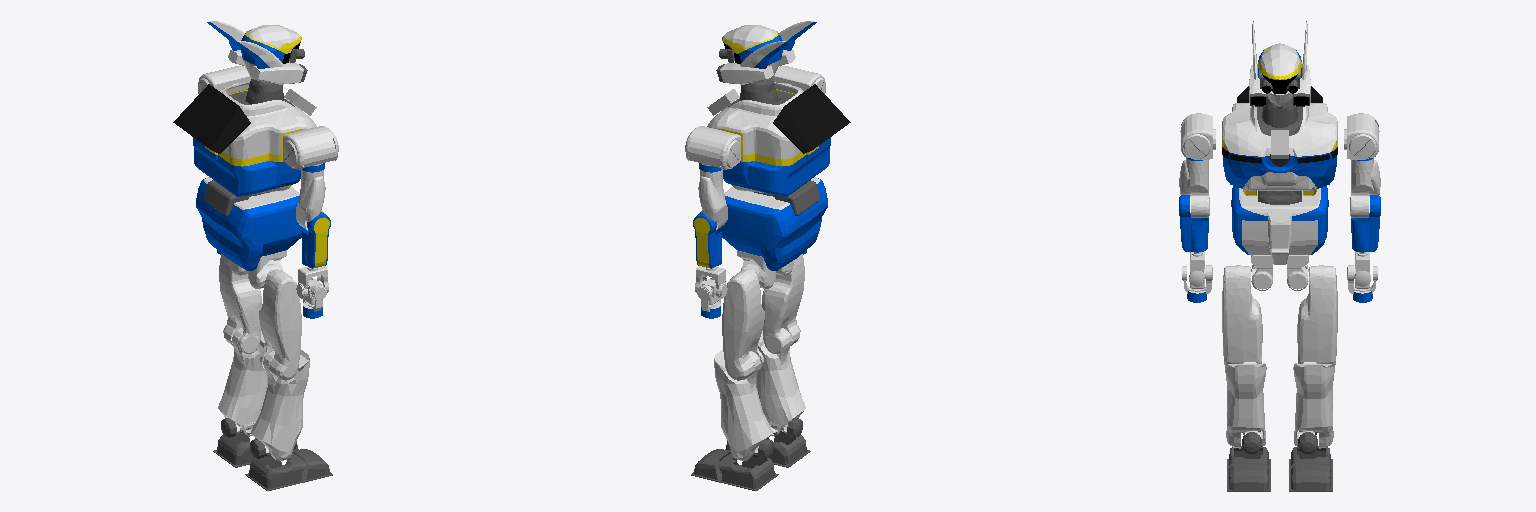
--- Render facts (derived) ---
3 views of the same robot in one strip: view 1: azimuth 30°, elevation 25°; view 2: azimuth 150°, elevation 25°; view 3: azimuth 270°, elevation 25° (orthographic).
Robot: HRP2JSKNTS — 35 links, 34 joints (34 revolute); root link BODY; default pose: all joints at 0.
Links seen in each view (by area): view 1: CHEST_LINK1, BODY, HEAD_LINK1, RLEG_LINK2, RLEG_LINK3, LLEG_LINK3, LLEG_LINK2, RLEG_LINK5, RARM_LINK2, RARM_LINK3, RARM_LINK0, LLEG_LINK5 (+6 smaller); view 2: CHEST_LINK1, BODY, HEAD_LINK1, LLEG_LINK2, LLEG_LINK3, RLEG_LINK3, RLEG_LINK2, LLEG_LINK5, LARM_LINK2, LARM_LINK3, LARM_LINK0, RLEG_LINK5 (+6 smaller); view 3: CHEST_LINK1, BODY, LLEG_LINK2, RLEG_LINK2, HEAD_LINK1, LLEG_LINK3, RLEG_LINK3, LARM_LINK2, RARM_LINK2, LARM_LINK0, RARM_LINK0, LLEG_LINK6 (+9 smaller).
Link boxes in pixels (left/top/right/bottom): CHEST_LINK1: left=173, top=82, right=316, bottom=196; BODY: left=196, top=177, right=302, bottom=270; HEAD_LINK1: left=207, top=21, right=307, bottom=84; RLEG_LINK2: left=259, top=269, right=301, bottom=380; RLEG_LINK3: left=251, top=350, right=309, bottom=460; LLEG_LINK3: left=218, top=328, right=267, bottom=435; LLEG_LINK2: left=219, top=254, right=261, bottom=353; RLEG_LINK5: left=249, top=439, right=306, bottom=488; RARM_LINK2: left=296, top=163, right=325, bottom=230; RARM_LINK3: left=302, top=212, right=330, bottom=268; RARM_LINK0: left=283, top=126, right=338, bottom=169; LLEG_LINK5: left=217, top=418, right=269, bottom=464; CHEST_LINK1: left=707, top=82, right=850, bottom=196; BODY: left=721, top=177, right=827, bottom=270; HEAD_LINK1: left=716, top=21, right=816, bottom=84; LLEG_LINK2: left=722, top=269, right=764, bottom=380; LLEG_LINK3: left=714, top=350, right=772, bottom=460; RLEG_LINK3: left=756, top=328, right=805, bottom=435; RLEG_LINK2: left=762, top=254, right=804, bottom=353; LLEG_LINK5: left=717, top=439, right=774, bottom=488; LARM_LINK2: left=698, top=163, right=727, bottom=230; LARM_LINK3: left=693, top=212, right=721, bottom=268; LARM_LINK0: left=685, top=126, right=740, bottom=169; RLEG_LINK5: left=754, top=418, right=806, bottom=464; CHEST_LINK1: left=1222, top=86, right=1337, bottom=195; BODY: left=1231, top=186, right=1328, bottom=264; LLEG_LINK2: left=1297, top=265, right=1337, bottom=365; RLEG_LINK2: left=1222, top=265, right=1262, bottom=365; HEAD_LINK1: left=1249, top=21, right=1310, bottom=106; LLEG_LINK3: left=1293, top=362, right=1334, bottom=448; RLEG_LINK3: left=1225, top=362, right=1266, bottom=448; LARM_LINK2: left=1350, top=158, right=1380, bottom=217; RARM_LINK2: left=1179, top=158, right=1209, bottom=217; LARM_LINK0: left=1344, top=113, right=1379, bottom=159; RARM_LINK0: left=1180, top=113, right=1215, bottom=159; LLEG_LINK6: left=1289, top=459, right=1332, bottom=491.
Size in the robot's own frame: 0.4557 by 0.6801 by 1.61 metres.
35 mesh visuals loaded from 35 distinct referenced files (35 Collada DAE).

robot.urdf — HRP2JSKNTS:
<?xml version="1.0"?>
<robot name="HRP2JSKNTS"
       xmlns:xi="http://www.w3.org/2001/XInclude"
       >
  <link name="BODY">
    <visual>
      <origin xyz="0 0 0.718" rpy="0 -0 0"/>
      <geometry>
        <mesh filename="package://hrpsys_ros_bridge_tutorials/models/HRP2JSKNTS_meshes/BODY_mesh.dae" scale="1 1 1" />
      </geometry>
    </visual>
    <collision>
      <origin xyz="0 0 0.718" rpy="0 -0 0"/>
      <geometry>
        <mesh filename="package://hrpsys_ros_bridge_tutorials/models/HRP2JSKNTS_meshes/BODY_mesh.dae" scale="1 1 1" />
      </geometry>
    </collision>
    <inertial>
      <mass value="13.5495" />
      <origin xyz="-0.036953 1.33107e-07 0.195848" rpy="0 -0 0"/>
      <inertia ixx="0.161026" ixy="-2.6504e-07" ixz="0.000706962" iyy="0.09528" iyz="-1.95085e-07" izz="0.191914"/>
    </inertial>
  </link>
  <gazebo reference="BODY">
    <mu1>0.9</mu1>
    <mu2>0.9</mu2>
  </gazebo>
  <link name="CHEST_LINK0">
    <visual>
      <origin xyz="0.032 0 0.3507" rpy="0 -0 0"/>
      <geometry>
        <mesh filename="package://hrpsys_ros_bridge_tutorials/models/HRP2JSKNTS_meshes/CHEST_LINK0_mesh.dae" scale="1 1 1" />
      </geometry>
    </visual>
    <collision>
      <origin xyz="0.032 0 0.3507" rpy="0 -0 0"/>
      <geometry>
        <mesh filename="package://hrpsys_ros_bridge_tutorials/models/HRP2JSKNTS_meshes/CHEST_LINK0_mesh.dae" scale="1 1 1" />
      </geometry>
    </collision>
    <inertial>
      <mass value="0.786369" />
      <origin xyz="-0.0158016 0.00529544 -0.0251963" rpy="0 -0 0"/>
      <inertia ixx="0.00181617" ixy="-7.322e-05" ixz="-0.00027731" iyy="0.00185079" iyz="-0.00010749" izz="0.00233207"/>
    </inertial>
  </link>
  <gazebo reference="CHEST_LINK0">
    <mu1>0.9</mu1>
    <mu2>0.9</mu2>
  </gazebo>
  <link name="CHEST_LINK1">
    <visual>
      <origin xyz="0 0 0" rpy="0 -0 0"/>
      <geometry>
        <mesh filename="package://hrpsys_ros_bridge_tutorials/models/HRP2JSKNTS_meshes/CHEST_LINK1_mesh.dae" scale="1 1 1" />
      </geometry>
    </visual>
    <collision>
      <origin xyz="0 0 0" rpy="0 -0 0"/>
      <geometry>
        <mesh filename="package://hrpsys_ros_bridge_tutorials/models/HRP2JSKNTS_meshes/CHEST_LINK1_mesh.dae" scale="1 1 1" />
      </geometry>
    </collision>
    <inertial>
      <mass value="12.4296" />
      <origin xyz="-0.038751 0.006642 0.129476" rpy="0 -0 0"/>
      <inertia ixx="0.160476" ixy="-0.00135932" ixz="-0.00414493" iyy="0.136846" iyz="0.00388036" izz="0.181669"/>
    </inertial>
  </link>
  <gazebo reference="CHEST_LINK1">
    <mu1>0.9</mu1>
    <mu2>0.9</mu2>
  </gazebo>
  <link name="HEAD_LINK0">
    <visual>
      <origin xyz="-0.007 0 0.2973" rpy="0 -0 0"/>
      <geometry>
        <mesh filename="package://hrpsys_ros_bridge_tutorials/models/HRP2JSKNTS_meshes/HEAD_LINK0_mesh.dae" scale="1 1 1" />
      </geometry>
    </visual>
    <collision>
      <origin xyz="-0.007 0 0.2973" rpy="0 -0 0"/>
      <geometry>
        <mesh filename="package://hrpsys_ros_bridge_tutorials/models/HRP2JSKNTS_meshes/HEAD_LINK0_mesh.dae" scale="1 1 1" />
      </geometry>
    </collision>
    <inertial>
      <mass value="0.362181" />
      <origin xyz="-0.00090801 0.00274824 -0.00825901" rpy="0 -0 0"/>
      <inertia ixx="0.00038285" ixy="-5.2e-07" ixz="2.24e-06" iyy="0.00021609" iyz="-7.26e-06" izz="0.0003473"/>
    </inertial>
  </link>
  <gazebo reference="HEAD_LINK0">
    <mu1>0.9</mu1>
    <mu2>0.9</mu2>
  </gazebo>
  <link name="HEAD_LINK1">
    <visual>
      <origin xyz="0 0 0" rpy="0 -0 0"/>
      <geometry>
        <mesh filename="package://hrpsys_ros_bridge_tutorials/models/HRP2JSKNTS_meshes/HEAD_LINK1_mesh.dae" scale="1 1 1" />
      </geometry>
    </visual>
    <collision>
      <origin xyz="0 0 0" rpy="0 -0 0"/>
      <geometry>
        <mesh filename="package://hrpsys_ros_bridge_tutorials/models/HRP2JSKNTS_meshes/HEAD_LINK1_mesh.dae" scale="1 1 1" />
      </geometry>
    </collision>
    <inertial>
      <mass value="3.02154" />
      <origin xyz="0.002748 -0.000165 0.096609" rpy="0 -0 0"/>
      <inertia ixx="0.00393357" ixy="4.68e-06" ixz="7.928e-05" iyy="0.00413822" iyz="-9.051e-05" izz="0.00524469"/>
    </inertial>
  </link>
  <gazebo reference="HEAD_LINK1">
    <mu1>0.9</mu1>
    <mu2>0.9</mu2>
  </gazebo>
  <link name="LARM_LINK0">
    <visual>
      <origin xyz="0.008 0.28 0.181" rpy="0 -0 0"/>
      <geometry>
        <mesh filename="package://hrpsys_ros_bridge_tutorials/models/HRP2JSKNTS_meshes/LARM_LINK0_mesh.dae" scale="1 1 1" />
      </geometry>
    </visual>
    <collision>
      <origin xyz="0.008 0.28 0.181" rpy="0 -0 0"/>
      <geometry>
        <mesh filename="package://hrpsys_ros_bridge_tutorials/models/HRP2JSKNTS_meshes/LARM_LINK0_mesh.dae" scale="1 1 1" />
      </geometry>
    </collision>
    <inertial>
      <mass value="0.810076" />
      <origin xyz="-0.00989448 -0.0464526 -0.00015316" rpy="0 -0 0"/>
      <inertia ixx="0.00221115" ixy="0.00030424" ixz="1.47e-06" iyy="0.00184189" iyz="-4.667e-05" izz="0.00344772"/>
    </inertial>
  </link>
  <gazebo reference="LARM_LINK0">
    <mu1>0.9</mu1>
    <mu2>0.9</mu2>
  </gazebo>
  <link name="LARM_LINK1">
    <visual>
      <origin xyz="0 0 0" rpy="0 -0 0"/>
      <geometry>
        <mesh filename="package://hrpsys_ros_bridge_tutorials/models/HRP2JSKNTS_meshes/LARM_LINK1_mesh.dae" scale="1 1 1" />
      </geometry>
    </visual>
    <collision>
      <origin xyz="0 0 0" rpy="0 -0 0"/>
      <geometry>
        <mesh filename="package://hrpsys_ros_bridge_tutorials/models/HRP2JSKNTS_meshes/LARM_LINK1_mesh.dae" scale="1 1 1" />
      </geometry>
    </collision>
    <inertial>
      <mass value="1.03448" />
      <origin xyz="-0.0105646 0.0120429 -0.00948156" rpy="0 -0 0"/>
      <inertia ixx="0.00122098" ixy="-0.00028119" ixz="9.407e-05" iyy="0.00172216" iyz="-0.00012041" izz="0.00161319"/>
    </inertial>
  </link>
  <gazebo reference="LARM_LINK1">
    <mu1>0.9</mu1>
    <mu2>0.9</mu2>
  </gazebo>
  <link name="LARM_LINK2">
    <visual>
      <origin xyz="0 0 0" rpy="0 -0 0"/>
      <geometry>
        <mesh filename="package://hrpsys_ros_bridge_tutorials/models/HRP2JSKNTS_meshes/LARM_LINK2_mesh.dae" scale="1 1 1" />
      </geometry>
    </visual>
    <collision>
      <origin xyz="0 0 0" rpy="0 -0 0"/>
      <geometry>
        <mesh filename="package://hrpsys_ros_bridge_tutorials/models/HRP2JSKNTS_meshes/LARM_LINK2_mesh.dae" scale="1 1 1" />
      </geometry>
    </collision>
    <inertial>
      <mass value="1.59929" />
      <origin xyz="-0.00543072 0.00479797 -0.166872" rpy="0 -0 0"/>
      <inertia ixx="0.00973049" ixy="5.13304e-05" ixz="-0.000199167" iyy="0.00970372" iyz="-0.000137469" izz="0.00135331"/>
    </inertial>
  </link>
  <gazebo reference="LARM_LINK2">
    <mu1>0.9</mu1>
    <mu2>0.9</mu2>
  </gazebo>
  <link name="LARM_LINK3">
    <visual>
      <origin xyz="0 0 -0.25" rpy="0 -0 0"/>
      <geometry>
        <mesh filename="package://hrpsys_ros_bridge_tutorials/models/HRP2JSKNTS_meshes/LARM_LINK3_mesh.dae" scale="1 1 1" />
      </geometry>
    </visual>
    <collision>
      <origin xyz="0 0 -0.25" rpy="0 -0 0"/>
      <geometry>
        <mesh filename="package://hrpsys_ros_bridge_tutorials/models/HRP2JSKNTS_meshes/LARM_LINK3_mesh.dae" scale="1 1 1" />
      </geometry>
    </collision>
    <inertial>
      <mass value="0.77725" />
      <origin xyz="-9.27e-06 0.0161684 -0.0627015" rpy="0 -0 0"/>
      <inertia ixx="0.00232668" ixy="-7e-08" ixz="-3.1e-07" iyy="0.00212476" iyz="-0.00015097" izz="0.00056363"/>
    </inertial>
  </link>
  <gazebo reference="LARM_LINK3">
    <mu1>0.9</mu1>
    <mu2>0.9</mu2>
  </gazebo>
  <link name="LARM_LINK4">
    <visual>
      <origin xyz="0 0 -0.25" rpy="0 -0 0"/>
      <geometry>
        <mesh filename="package://hrpsys_ros_bridge_tutorials/models/HRP2JSKNTS_meshes/LARM_LINK4_mesh.dae" scale="1 1 1" />
      </geometry>
    </visual>
    <collision>
      <origin xyz="0 0 -0.25" rpy="0 -0 0"/>
      <geometry>
        <mesh filename="package://hrpsys_ros_bridge_tutorials/models/HRP2JSKNTS_meshes/LARM_LINK4_mesh.dae" scale="1 1 1" />
      </geometry>
    </collision>
    <inertial>
      <mass value="0.328543" />
      <origin xyz="-0.00840122 -1.406e-05 0.0472199" rpy="0 -0 0"/>
      <inertia ixx="0.00084438" ixy="4e-08" ixz="-0.00013812" iyy="0.00105692" iyz="2.3e-07" izz="0.00034468"/>
    </inertial>
  </link>
  <gazebo reference="LARM_LINK4">
    <mu1>0.9</mu1>
    <mu2>0.9</mu2>
  </gazebo>
  <link name="LARM_LINK5">
    <visual>
      <origin xyz="0 0 0" rpy="0 -0 0"/>
      <geometry>
        <mesh filename="package://hrpsys_ros_bridge_tutorials/models/HRP2JSKNTS_meshes/LARM_LINK5_mesh.dae" scale="1 1 1" />
      </geometry>
    </visual>
    <collision>
      <origin xyz="0 0 0" rpy="0 -0 0"/>
      <geometry>
        <mesh filename="package://hrpsys_ros_bridge_tutorials/models/HRP2JSKNTS_meshes/LARM_LINK5_mesh.dae" scale="1 1 1" />
      </geometry>
    </collision>
    <inertial>
      <mass value="0.460767" />
      <origin xyz="0.00361678 0.00180569 -0.00656872" rpy="0 -0 0"/>
      <inertia ixx="0.00026432" ixy="3.17e-06" ixz="-1.177e-05" iyy="0.0002938" iyz="-1.08e-05" izz="0.0002986"/>
    </inertial>
  </link>
  <gazebo reference="LARM_LINK5">
    <mu1>0.9</mu1>
    <mu2>0.9</mu2>
  </gazebo>
  <link name="LARM_LINK6">
    <visual>
      <origin xyz="0 0 0" rpy="0 -0 0"/>
      <geometry>
        <mesh filename="package://hrpsys_ros_bridge_tutorials/models/HRP2JSKNTS_meshes/LARM_LINK6_mesh.dae" scale="1 1 1" />
      </geometry>
    </visual>
    <collision>
      <origin xyz="0 0 0" rpy="0 -0 0"/>
      <geometry>
        <mesh filename="package://hrpsys_ros_bridge_tutorials/models/HRP2JSKNTS_meshes/LARM_LINK6_mesh.dae" scale="1 1 1" />
      </geometry>
    </collision>
    <inertial>
      <mass value="1.33256" />
      <origin xyz="0.00067085 0.00738842 -0.085722" rpy="0 -0 0"/>
      <inertia ixx="0.00227076" ixy="6.3e-07" ixz="3.217e-05" iyy="0.00214173" iyz="-3.72e-06" izz="0.00067255"/>
    </inertial>
  </link>
  <gazebo reference="LARM_LINK6">
    <mu1>0.9</mu1>
    <mu2>0.9</mu2>
  </gazebo>
  <link name="LARM_LINK7">
    <visual>
      <origin xyz="0 -0.0169 -0.114" rpy="0 -0 0"/>
      <geometry>
        <mesh filename="package://hrpsys_ros_bridge_tutorials/models/HRP2JSKNTS_meshes/LARM_LINK7_mesh.dae" scale="1 1 1" />
      </geometry>
    </visual>
    <collision>
      <origin xyz="0 -0.0169 -0.114" rpy="0 -0 0"/>
      <geometry>
        <mesh filename="package://hrpsys_ros_bridge_tutorials/models/HRP2JSKNTS_meshes/LARM_LINK7_mesh.dae" scale="1 1 1" />
      </geometry>
    </collision>
    <inertial>
      <mass value="0" />
      <origin xyz="0 0 -1.38778e-17" rpy="0 -0 0"/>
      <inertia ixx="0" ixy="0" ixz="0" iyy="0" iyz="0" izz="0"/>
    </inertial>
  </link>
  <gazebo reference="LARM_LINK7">
    <mu1>0.9</mu1>
    <mu2>0.9</mu2>
  </gazebo>
  <link name="RARM_LINK0">
    <visual>
      <origin xyz="0.008 -0.28 0.181" rpy="0 -0 0"/>
      <geometry>
        <mesh filename="package://hrpsys_ros_bridge_tutorials/models/HRP2JSKNTS_meshes/RARM_LINK0_mesh.dae" scale="1 1 1" />
      </geometry>
    </visual>
    <collision>
      <origin xyz="0.008 -0.28 0.181" rpy="0 -0 0"/>
      <geometry>
        <mesh filename="package://hrpsys_ros_bridge_tutorials/models/HRP2JSKNTS_meshes/RARM_LINK0_mesh.dae" scale="1 1 1" />
      </geometry>
    </collision>
    <inertial>
      <mass value="0.810076" />
      <origin xyz="-0.00989448 0.0464526 -0.00015316" rpy="0 -0 0"/>
      <inertia ixx="0.00221115" ixy="-0.00030424" ixz="1.47e-06" iyy="0.00184189" iyz="4.667e-05" izz="0.00344772"/>
    </inertial>
  </link>
  <gazebo reference="RARM_LINK0">
    <mu1>0.9</mu1>
    <mu2>0.9</mu2>
  </gazebo>
  <link name="RARM_LINK1">
    <visual>
      <origin xyz="0 0 0" rpy="0 -0 0"/>
      <geometry>
        <mesh filename="package://hrpsys_ros_bridge_tutorials/models/HRP2JSKNTS_meshes/RARM_LINK1_mesh.dae" scale="1 1 1" />
      </geometry>
    </visual>
    <collision>
      <origin xyz="0 0 0" rpy="0 -0 0"/>
      <geometry>
        <mesh filename="package://hrpsys_ros_bridge_tutorials/models/HRP2JSKNTS_meshes/RARM_LINK1_mesh.dae" scale="1 1 1" />
      </geometry>
    </collision>
    <inertial>
      <mass value="1.03448" />
      <origin xyz="-0.0105646 -0.0120429 -0.00948156" rpy="0 -0 0"/>
      <inertia ixx="0.00122098" ixy="0.00028119" ixz="9.407e-05" iyy="0.00172216" iyz="0.00012041" izz="0.00161319"/>
    </inertial>
  </link>
  <gazebo reference="RARM_LINK1">
    <mu1>0.9</mu1>
    <mu2>0.9</mu2>
  </gazebo>
  <link name="RARM_LINK2">
    <visual>
      <origin xyz="0 0 0" rpy="0 -0 0"/>
      <geometry>
        <mesh filename="package://hrpsys_ros_bridge_tutorials/models/HRP2JSKNTS_meshes/RARM_LINK2_mesh.dae" scale="1 1 1" />
      </geometry>
    </visual>
    <collision>
      <origin xyz="0 0 0" rpy="0 -0 0"/>
      <geometry>
        <mesh filename="package://hrpsys_ros_bridge_tutorials/models/HRP2JSKNTS_meshes/RARM_LINK2_mesh.dae" scale="1 1 1" />
      </geometry>
    </collision>
    <inertial>
      <mass value="1.59929" />
      <origin xyz="-0.00543072 -0.00479797 -0.166872" rpy="0 -0 0"/>
      <inertia ixx="0.00973049" ixy="-5.13304e-05" ixz="-0.000199167" iyy="0.00970372" iyz="0.000137469" izz="0.00135331"/>
    </inertial>
  </link>
  <gazebo reference="RARM_LINK2">
    <mu1>0.9</mu1>
    <mu2>0.9</mu2>
  </gazebo>
  <link name="RARM_LINK3">
    <visual>
      <origin xyz="0 0 -0.25" rpy="0 -0 0"/>
      <geometry>
        <mesh filename="package://hrpsys_ros_bridge_tutorials/models/HRP2JSKNTS_meshes/RARM_LINK3_mesh.dae" scale="1 1 1" />
      </geometry>
    </visual>
    <collision>
      <origin xyz="0 0 -0.25" rpy="0 -0 0"/>
      <geometry>
        <mesh filename="package://hrpsys_ros_bridge_tutorials/models/HRP2JSKNTS_meshes/RARM_LINK3_mesh.dae" scale="1 1 1" />
      </geometry>
    </collision>
    <inertial>
      <mass value="0.77725" />
      <origin xyz="-9.27e-06 -0.0161684 -0.0627015" rpy="0 -0 0"/>
      <inertia ixx="0.00232668" ixy="7e-08" ixz="-3.1e-07" iyy="0.00212476" iyz="0.00015097" izz="0.00056363"/>
    </inertial>
  </link>
  <gazebo reference="RARM_LINK3">
    <mu1>0.9</mu1>
    <mu2>0.9</mu2>
  </gazebo>
  <link name="RARM_LINK4">
    <visual>
      <origin xyz="0 0 -0.25" rpy="0 -0 0"/>
      <geometry>
        <mesh filename="package://hrpsys_ros_bridge_tutorials/models/HRP2JSKNTS_meshes/RARM_LINK4_mesh.dae" scale="1 1 1" />
      </geometry>
    </visual>
    <collision>
      <origin xyz="0 0 -0.25" rpy="0 -0 0"/>
      <geometry>
        <mesh filename="package://hrpsys_ros_bridge_tutorials/models/HRP2JSKNTS_meshes/RARM_LINK4_mesh.dae" scale="1 1 1" />
      </geometry>
    </collision>
    <inertial>
      <mass value="0.328543" />
      <origin xyz="-0.00840122 1.406e-05 0.0472199" rpy="0 -0 0"/>
      <inertia ixx="0.00084438" ixy="-4e-08" ixz="-0.00013812" iyy="0.00105692" iyz="-2.3e-07" izz="0.00034468"/>
    </inertial>
  </link>
  <gazebo reference="RARM_LINK4">
    <mu1>0.9</mu1>
    <mu2>0.9</mu2>
  </gazebo>
  <link name="RARM_LINK5">
    <visual>
      <origin xyz="0 0 0" rpy="0 -0 0"/>
      <geometry>
        <mesh filename="package://hrpsys_ros_bridge_tutorials/models/HRP2JSKNTS_meshes/RARM_LINK5_mesh.dae" scale="1 1 1" />
      </geometry>
    </visual>
    <collision>
      <origin xyz="0 0 0" rpy="0 -0 0"/>
      <geometry>
        <mesh filename="package://hrpsys_ros_bridge_tutorials/models/HRP2JSKNTS_meshes/RARM_LINK5_mesh.dae" scale="1 1 1" />
      </geometry>
    </collision>
    <inertial>
      <mass value="0.460767" />
      <origin xyz="0.00361678 -0.00180569 -0.00656872" rpy="0 -0 0"/>
      <inertia ixx="0.00026432" ixy="-3.17e-06" ixz="-1.177e-05" iyy="0.0002938" iyz="1.08e-05" izz="0.0002986"/>
    </inertial>
  </link>
  <gazebo reference="RARM_LINK5">
    <mu1>0.9</mu1>
    <mu2>0.9</mu2>
  </gazebo>
  <link name="RARM_LINK6">
    <visual>
      <origin xyz="0 0 0" rpy="0 -0 0"/>
      <geometry>
        <mesh filename="package://hrpsys_ros_bridge_tutorials/models/HRP2JSKNTS_meshes/RARM_LINK6_mesh.dae" scale="1 1 1" />
      </geometry>
    </visual>
    <collision>
      <origin xyz="0 0 0" rpy="0 -0 0"/>
      <geometry>
        <mesh filename="package://hrpsys_ros_bridge_tutorials/models/HRP2JSKNTS_meshes/RARM_LINK6_mesh.dae" scale="1 1 1" />
      </geometry>
    </collision>
    <inertial>
      <mass value="1.33256" />
      <origin xyz="0.00067085 -0.00738842 -0.085722" rpy="0 -0 0"/>
      <inertia ixx="0.00227076" ixy="-6.3e-07" ixz="3.217e-05" iyy="0.00214173" iyz="3.72e-06" izz="0.00067255"/>
    </inertial>
  </link>
  <gazebo reference="RARM_LINK6">
    <mu1>0.9</mu1>
    <mu2>0.9</mu2>
  </gazebo>
  <link name="RARM_LINK7">
    <visual>
      <origin xyz="0 0.0169 -0.114" rpy="0 -0 0"/>
      <geometry>
        <mesh filename="package://hrpsys_ros_bridge_tutorials/models/HRP2JSKNTS_meshes/RARM_LINK7_mesh.dae" scale="1 1 1" />
      </geometry>
    </visual>
    <collision>
      <origin xyz="0 0.0169 -0.114" rpy="0 -0 0"/>
      <geometry>
        <mesh filename="package://hrpsys_ros_bridge_tutorials/models/HRP2JSKNTS_meshes/RARM_LINK7_mesh.dae" scale="1 1 1" />
      </geometry>
    </collision>
    <inertial>
      <mass value="0" />
      <origin xyz="0 0 -1.38778e-17" rpy="0 -0 0"/>
      <inertia ixx="0" ixy="0" ixz="0" iyy="0" iyz="0" izz="0"/>
    </inertial>
  </link>
  <gazebo reference="RARM_LINK7">
    <mu1>0.9</mu1>
    <mu2>0.9</mu2>
  </gazebo>
  <link name="LLEG_LINK0">
    <visual>
      <origin xyz="0 0.06 0" rpy="0 -0 0"/>
      <geometry>
        <mesh filename="package://hrpsys_ros_bridge_tutorials/models/HRP2JSKNTS_meshes/LLEG_LINK0_mesh.dae" scale="1 1 1" />
      </geometry>
    </visual>
    <collision>
      <origin xyz="0 0.06 0" rpy="0 -0 0"/>
      <geometry>
        <mesh filename="package://hrpsys_ros_bridge_tutorials/models/HRP2JSKNTS_meshes/LLEG_LINK0_mesh.dae" scale="1 1 1" />
      </geometry>
    </collision>
    <inertial>
      <mass value="1.16852" />
      <origin xyz="-0.0103793 -0.00484329 0.0649015" rpy="0 -0 0"/>
      <inertia ixx="0.00285998" ixy="1.43424e-05" ixz="-0.000555819" iyy="0.00352974" iyz="-8.84038e-06" izz="0.00145427"/>
    </inertial>
  </link>
  <gazebo reference="LLEG_LINK0">
    <mu1>0.9</mu1>
    <mu2>0.9</mu2>
  </gazebo>
  <link name="LLEG_LINK1">
    <visual>
      <origin xyz="0 0 0" rpy="0 -0 0"/>
      <geometry>
        <mesh filename="package://hrpsys_ros_bridge_tutorials/models/HRP2JSKNTS_meshes/LLEG_LINK1_mesh.dae" scale="1 1 1" />
      </geometry>
    </visual>
    <collision>
      <origin xyz="0 0 0" rpy="0 -0 0"/>
      <geometry>
        <mesh filename="package://hrpsys_ros_bridge_tutorials/models/HRP2JSKNTS_meshes/LLEG_LINK1_mesh.dae" scale="1 1 1" />
      </geometry>
    </collision>
    <inertial>
      <mass value="0.80553" />
      <origin xyz="-0.00039826 0.0261287 -0.00292156" rpy="0 -0 0"/>
      <inertia ixx="0.00126683" ixy="-1.211e-05" ixz="1.64e-06" iyy="0.00050656" iyz="-6.938e-05" izz="0.00132021"/>
    </inertial>
  </link>
  <gazebo reference="LLEG_LINK1">
    <mu1>0.9</mu1>
    <mu2>0.9</mu2>
  </gazebo>
  <link name="LLEG_LINK2">
    <visual>
      <origin xyz="0 0 0" rpy="0 -0 0"/>
      <geometry>
        <mesh filename="package://hrpsys_ros_bridge_tutorials/models/HRP2JSKNTS_meshes/LLEG_LINK2_mesh.dae" scale="1 1 1" />
      </geometry>
    </visual>
    <collision>
      <origin xyz="0 0 0" rpy="0 -0 0"/>
      <geometry>
        <mesh filename="package://hrpsys_ros_bridge_tutorials/models/HRP2JSKNTS_meshes/LLEG_LINK2_mesh.dae" scale="1 1 1" />
      </geometry>
    </collision>
    <inertial>
      <mass value="2.07632" />
      <origin xyz="0.00345946 0.0779422 -0.151684" rpy="0 -0 0"/>
      <inertia ixx="0.0261976" ixy="3.95406e-05" ixz="0.000573517" iyy="0.0249235" iyz="-0.000670077" izz="0.00376439"/>
    </inertial>
  </link>
  <gazebo reference="LLEG_LINK2">
    <mu1>0.9</mu1>
    <mu2>0.9</mu2>
  </gazebo>
  <link name="LLEG_LINK3">
    <visual>
      <origin xyz="0 0 -0.3" rpy="0 -0 0"/>
      <geometry>
        <mesh filename="package://hrpsys_ros_bridge_tutorials/models/HRP2JSKNTS_meshes/LLEG_LINK3_mesh.dae" scale="1 1 1" />
      </geometry>
    </visual>
    <collision>
      <origin xyz="0 0 -0.3" rpy="0 -0 0"/>
      <geometry>
        <mesh filename="package://hrpsys_ros_bridge_tutorials/models/HRP2JSKNTS_meshes/LLEG_LINK3_mesh.dae" scale="1 1 1" />
      </geometry>
    </collision>
    <inertial>
      <mass value="1.74762" />
      <origin xyz="0.0179878 0.0579164 -0.13839" rpy="0 -0 0"/>
      <inertia ixx="0.0223269" ixy="9.39152e-05" ixz="-0.00224766" iyy="0.022506" iyz="0.000745178" izz="0.0045544"/>
    </inertial>
  </link>
  <gazebo reference="LLEG_LINK3">
    <mu1>0.9</mu1>
    <mu2>0.9</mu2>
  </gazebo>
  <link name="LLEG_LINK4">
    <visual>
      <origin xyz="0 0.035 -0.3" rpy="0 -0 0"/>
      <geometry>
        <mesh filename="package://hrpsys_ros_bridge_tutorials/models/HRP2JSKNTS_meshes/LLEG_LINK4_mesh.dae" scale="1 1 1" />
      </geometry>
    </visual>
    <collision>
      <origin xyz="0 0.035 -0.3" rpy="0 -0 0"/>
      <geometry>
        <mesh filename="package://hrpsys_ros_bridge_tutorials/models/HRP2JSKNTS_meshes/LLEG_LINK4_mesh.dae" scale="1 1 1" />
      </geometry>
    </collision>
    <inertial>
      <mass value="0.65375" />
      <origin xyz="0.00827083 0.00133301 -0.002418" rpy="0 -0 0"/>
      <inertia ixx="0.00027773" ixy="5.26e-06" ixz="1.354e-05" iyy="0.00078966" iyz="3.59e-06" izz="0.00086039"/>
    </inertial>
  </link>
  <gazebo reference="LLEG_LINK4">
    <mu1>0.9</mu1>
    <mu2>0.9</mu2>
  </gazebo>
  <link name="LLEG_LINK5">
    <visual>
      <origin xyz="0 0 0" rpy="0 -0 0"/>
      <geometry>
        <mesh filename="package://hrpsys_ros_bridge_tutorials/models/HRP2JSKNTS_meshes/LLEG_LINK5_mesh.dae" scale="1 1 1" />
      </geometry>
    </visual>
    <collision>
      <origin xyz="0 0 0" rpy="0 -0 0"/>
      <geometry>
        <mesh filename="package://hrpsys_ros_bridge_tutorials/models/HRP2JSKNTS_meshes/LLEG_LINK5_mesh.dae" scale="1 1 1" />
      </geometry>
    </collision>
    <inertial>
      <mass value="1.80877" />
      <origin xyz="-0.000602 0.004248 -0.066744" rpy="0 -0 0"/>
      <inertia ixx="0.00400076" ixy="-9.983e-05" ixz="0.00079295" iyy="0.00687611" iyz="0.00018541" izz="0.00711516"/>
    </inertial>
  </link>
  <gazebo reference="LLEG_LINK5">
    <mu1>0.9</mu1>
    <mu2>0.9</mu2>
  </gazebo>
  <link name="LLEG_LINK6">
    <visual>
      <origin xyz="0.115 0 -0.084" rpy="0 -0 0"/>
      <geometry>
        <mesh filename="package://hrpsys_ros_bridge_tutorials/models/HRP2JSKNTS_meshes/LLEG_LINK6_mesh.dae" scale="1 1 1" />
      </geometry>
    </visual>
    <collision>
      <origin xyz="0.115 0 -0.084" rpy="0 -0 0"/>
      <geometry>
        <mesh filename="package://hrpsys_ros_bridge_tutorials/models/HRP2JSKNTS_meshes/LLEG_LINK6_mesh.dae" scale="1 1 1" />
      </geometry>
    </collision>
    <inertial>
      <mass value="0.819152" />
      <origin xyz="-0.011449 0.004827 -0.019364" rpy="0 -0 0"/>
      <inertia ixx="0.00076266" ixy="2.741e-05" ixz="2.69e-06" iyy="0.00035733" iyz="1.182e-05" izz="0.00095164"/>
    </inertial>
  </link>
  <gazebo reference="LLEG_LINK6">
    <mu1>0.9</mu1>
    <mu2>0.9</mu2>
  </gazebo>
  <link name="RLEG_LINK0">
    <visual>
      <origin xyz="0 -0.06 0" rpy="0 -0 0"/>
      <geometry>
        <mesh filename="package://hrpsys_ros_bridge_tutorials/models/HRP2JSKNTS_meshes/RLEG_LINK0_mesh.dae" scale="1 1 1" />
      </geometry>
    </visual>
    <collision>
      <origin xyz="0 -0.06 0" rpy="0 -0 0"/>
      <geometry>
        <mesh filename="package://hrpsys_ros_bridge_tutorials/models/HRP2JSKNTS_meshes/RLEG_LINK0_mesh.dae" scale="1 1 1" />
      </geometry>
    </collision>
    <inertial>
      <mass value="1.16852" />
      <origin xyz="-0.0103793 0.00484329 0.0649015" rpy="0 -0 0"/>
      <inertia ixx="0.00285998" ixy="-1.43424e-05" ixz="-0.000555819" iyy="0.00352974" iyz="8.84038e-06" izz="0.00145427"/>
    </inertial>
  </link>
  <gazebo reference="RLEG_LINK0">
    <mu1>0.9</mu1>
    <mu2>0.9</mu2>
  </gazebo>
  <link name="RLEG_LINK1">
    <visual>
      <origin xyz="0 0 0" rpy="0 -0 0"/>
      <geometry>
        <mesh filename="package://hrpsys_ros_bridge_tutorials/models/HRP2JSKNTS_meshes/RLEG_LINK1_mesh.dae" scale="1 1 1" />
      </geometry>
    </visual>
    <collision>
      <origin xyz="0 0 0" rpy="0 -0 0"/>
      <geometry>
        <mesh filename="package://hrpsys_ros_bridge_tutorials/models/HRP2JSKNTS_meshes/RLEG_LINK1_mesh.dae" scale="1 1 1" />
      </geometry>
    </collision>
    <inertial>
      <mass value="0.80553" />
      <origin xyz="-0.00039826 -0.0261287 -0.00292156" rpy="0 -0 0"/>
      <inertia ixx="0.00126683" ixy="1.211e-05" ixz="1.64e-06" iyy="0.00050656" iyz="6.938e-05" izz="0.00132021"/>
    </inertial>
  </link>
  <gazebo reference="RLEG_LINK1">
    <mu1>0.9</mu1>
    <mu2>0.9</mu2>
  </gazebo>
  <link name="RLEG_LINK2">
    <visual>
      <origin xyz="0 0 0" rpy="0 -0 0"/>
      <geometry>
        <mesh filename="package://hrpsys_ros_bridge_tutorials/models/HRP2JSKNTS_meshes/RLEG_LINK2_mesh.dae" scale="1 1 1" />
      </geometry>
    </visual>
    <collision>
      <origin xyz="0 0 0" rpy="0 -0 0"/>
      <geometry>
        <mesh filename="package://hrpsys_ros_bridge_tutorials/models/HRP2JSKNTS_meshes/RLEG_LINK2_mesh.dae" scale="1 1 1" />
      </geometry>
    </collision>
    <inertial>
      <mass value="2.07632" />
      <origin xyz="0.00345946 -0.0779422 -0.151684" rpy="0 -0 0"/>
      <inertia ixx="0.0261976" ixy="-3.95406e-05" ixz="0.000573517" iyy="0.0249235" iyz="0.000670077" izz="0.00376439"/>
    </inertial>
  </link>
  <gazebo reference="RLEG_LINK2">
    <mu1>0.9</mu1>
    <mu2>0.9</mu2>
  </gazebo>
  <link name="RLEG_LINK3">
    <visual>
      <origin xyz="0 0 -0.3" rpy="0 -0 0"/>
      <geometry>
        <mesh filename="package://hrpsys_ros_bridge_tutorials/models/HRP2JSKNTS_meshes/RLEG_LINK3_mesh.dae" scale="1 1 1" />
      </geometry>
    </visual>
    <collision>
      <origin xyz="0 0 -0.3" rpy="0 -0 0"/>
      <geometry>
        <mesh filename="package://hrpsys_ros_bridge_tutorials/models/HRP2JSKNTS_meshes/RLEG_LINK3_mesh.dae" scale="1 1 1" />
      </geometry>
    </collision>
    <inertial>
      <mass value="1.74762" />
      <origin xyz="0.0179878 -0.0579164 -0.13839" rpy="0 -0 0"/>
      <inertia ixx="0.0223269" ixy="-9.39152e-05" ixz="-0.00224766" iyy="0.022506" iyz="-0.000745178" izz="0.0045544"/>
    </inertial>
  </link>
  <gazebo reference="RLEG_LINK3">
    <mu1>0.9</mu1>
    <mu2>0.9</mu2>
  </gazebo>
  <link name="RLEG_LINK4">
    <visual>
      <origin xyz="0 -0.035 -0.3" rpy="0 -0 0"/>
      <geometry>
        <mesh filename="package://hrpsys_ros_bridge_tutorials/models/HRP2JSKNTS_meshes/RLEG_LINK4_mesh.dae" scale="1 1 1" />
      </geometry>
    </visual>
    <collision>
      <origin xyz="0 -0.035 -0.3" rpy="0 -0 0"/>
      <geometry>
        <mesh filename="package://hrpsys_ros_bridge_tutorials/models/HRP2JSKNTS_meshes/RLEG_LINK4_mesh.dae" scale="1 1 1" />
      </geometry>
    </collision>
    <inertial>
      <mass value="0.65375" />
      <origin xyz="0.00827083 -0.00133301 -0.002418" rpy="0 -0 0"/>
      <inertia ixx="0.00027773" ixy="-5.26e-06" ixz="1.354e-05" iyy="0.00078966" iyz="-3.59e-06" izz="0.00086039"/>
    </inertial>
  </link>
  <gazebo reference="RLEG_LINK4">
    <mu1>0.9</mu1>
    <mu2>0.9</mu2>
  </gazebo>
  <link name="RLEG_LINK5">
    <visual>
      <origin xyz="0 0 0" rpy="0 -0 0"/>
      <geometry>
        <mesh filename="package://hrpsys_ros_bridge_tutorials/models/HRP2JSKNTS_meshes/RLEG_LINK5_mesh.dae" scale="1 1 1" />
      </geometry>
    </visual>
    <collision>
      <origin xyz="0 0 0" rpy="0 -0 0"/>
      <geometry>
        <mesh filename="package://hrpsys_ros_bridge_tutorials/models/HRP2JSKNTS_meshes/RLEG_LINK5_mesh.dae" scale="1 1 1" />
      </geometry>
    </collision>
    <inertial>
      <mass value="1.80877" />
      <origin xyz="-0.000602 -0.004248 -0.066744" rpy="0 -0 0"/>
      <inertia ixx="0.00400076" ixy="9.983e-05" ixz="0.00079295" iyy="0.00687611" iyz="-0.00018541" izz="0.00711516"/>
    </inertial>
  </link>
  <gazebo reference="RLEG_LINK5">
    <mu1>0.9</mu1>
    <mu2>0.9</mu2>
  </gazebo>
  <link name="RLEG_LINK6">
    <visual>
      <origin xyz="0.115 0 -0.084" rpy="0 -0 0"/>
      <geometry>
        <mesh filename="package://hrpsys_ros_bridge_tutorials/models/HRP2JSKNTS_meshes/RLEG_LINK6_mesh.dae" scale="1 1 1" />
      </geometry>
    </visual>
    <collision>
      <origin xyz="0.115 0 -0.084" rpy="0 -0 0"/>
      <geometry>
        <mesh filename="package://hrpsys_ros_bridge_tutorials/models/HRP2JSKNTS_meshes/RLEG_LINK6_mesh.dae" scale="1 1 1" />
      </geometry>
    </collision>
    <inertial>
      <mass value="0.819152" />
      <origin xyz="-0.011449 -0.012396 -0.019364" rpy="0 -0 0"/>
      <inertia ixx="0.00076266" ixy="2.741e-05" ixz="2.69e-06" iyy="0.00035733" iyz="1.182e-05" izz="0.00095164"/>
    </inertial>
  </link>
  <gazebo reference="RLEG_LINK6">
    <mu1>0.9</mu1>
    <mu2>0.9</mu2>
  </gazebo>
  <joint name="CHEST_JOINT0" type="revolute">
    <parent link="BODY"/>
    <child  link="CHEST_LINK0"/>
    <origin xyz="0.032 0 0.3507" rpy="0 -0 0 "/>
    <axis   xyz="0 0 1"/>
    <limit lower="-0.785398" upper="0.785398" effort="151.8" velocity="4.40217" />
    <dynamics damping="0.2" friction="0" />
  </joint>
  <transmission type="pr2_mechanism_model/SimpleTransmission" name="CHEST_JOINT0_trans" >
    <actuator name="CHEST_JOINT0_motor" />
    <joint name="CHEST_JOINT0" />
    <mechanicalReduction>1</mechanicalReduction>
  </transmission>
  <gazebo reference="CHEST_JOINT0">
    <cfmDamping>0.4</cfmDamping>
  </gazebo>
  <joint name="CHEST_JOINT1" type="revolute">
    <parent link="CHEST_LINK0"/>
    <child  link="CHEST_LINK1"/>
    <origin xyz="0 0 0" rpy="0 -0 0 "/>
    <axis   xyz="0 1 0"/>
    <limit lower="-0.0872665" upper="1.0472" effort="278.9" velocity="2.3963" />
    <dynamics damping="0.2" friction="0" />
  </joint>
  <transmission type="pr2_mechanism_model/SimpleTransmission" name="CHEST_JOINT1_trans" >
    <actuator name="CHEST_JOINT1_motor" />
    <joint name="CHEST_JOINT1" />
    <mechanicalReduction>1</mechanicalReduction>
  </transmission>
  <gazebo reference="CHEST_JOINT1">
    <cfmDamping>0.4</cfmDamping>
  </gazebo>
  <joint name="HEAD_JOINT0" type="revolute">
    <parent link="CHEST_LINK1"/>
    <child  link="HEAD_LINK0"/>
    <origin xyz="-0.007 0 0.2973" rpy="0 -0 0 "/>
    <axis   xyz="0 0 1"/>
    <limit lower="-0.785398" upper="0.785398" effort="9.6" velocity="6.87679" />
    <dynamics damping="0.2" friction="0" />
  </joint>
  <transmission type="pr2_mechanism_model/SimpleTransmission" name="HEAD_JOINT0_trans" >
    <actuator name="HEAD_JOINT0_motor" />
    <joint name="HEAD_JOINT0" />
    <mechanicalReduction>1</mechanicalReduction>
  </transmission>
  <gazebo reference="HEAD_JOINT0">
    <cfmDamping>0.4</cfmDamping>
  </gazebo>
  <joint name="HEAD_JOINT1" type="revolute">
    <parent link="HEAD_LINK0"/>
    <child  link="HEAD_LINK1"/>
    <origin xyz="0 0 0" rpy="0 -0 0 "/>
    <axis   xyz="0 1 0"/>
    <limit lower="-0.523599" upper="0.759218" effort="9.6" velocity="6.87679" />
    <dynamics damping="0.2" friction="0" />
  </joint>
  <transmission type="pr2_mechanism_model/SimpleTransmission" name="HEAD_JOINT1_trans" >
    <actuator name="HEAD_JOINT1_motor" />
    <joint name="HEAD_JOINT1" />
    <mechanicalReduction>1</mechanicalReduction>
  </transmission>
  <gazebo reference="HEAD_JOINT1">
    <cfmDamping>0.4</cfmDamping>
  </gazebo>
  <joint name="LARM_JOINT0" type="revolute">
    <parent link="CHEST_LINK1"/>
    <child  link="LARM_LINK0"/>
    <origin xyz="0.008 0.28 0.181" rpy="0 -0 0 "/>
    <axis   xyz="0 1 0"/>
    <limit lower="-3.14159" upper="1.0472" effort="160.3" velocity="4.17044" />
    <dynamics damping="0.2" friction="0" />
  </joint>
  <transmission type="pr2_mechanism_model/SimpleTransmission" name="LARM_JOINT0_trans" >
    <actuator name="LARM_JOINT0_motor" />
    <joint name="LARM_JOINT0" />
    <mechanicalReduction>1</mechanicalReduction>
  </transmission>
  <gazebo reference="LARM_JOINT0">
    <cfmDamping>0.4</cfmDamping>
  </gazebo>
  <joint name="LARM_JOINT1" type="revolute">
    <parent link="LARM_LINK0"/>
    <child  link="LARM_LINK1"/>
    <origin xyz="0 0 0" rpy="0 -0 0 "/>
    <axis   xyz="1 0 0"/>
    <limit lower="-0.174533" upper="1.65806" effort="100.4" velocity="2.4192" />
    <dynamics damping="0.2" friction="0" />
  </joint>
  <transmission type="pr2_mechanism_model/SimpleTransmission" name="LARM_JOINT1_trans" >
    <actuator name="LARM_JOINT1_motor" />
    <joint name="LARM_JOINT1" />
    <mechanicalReduction>1</mechanicalReduction>
  </transmission>
  <gazebo reference="LARM_JOINT1">
    <cfmDamping>0.4</cfmDamping>
  </gazebo>
  <joint name="LARM_JOINT2" type="revolute">
    <parent link="LARM_LINK1"/>
    <child  link="LARM_LINK2"/>
    <origin xyz="0 0 0" rpy="0 -0 0 "/>
    <axis   xyz="0 0 1"/>
    <limit lower="-1.6057" upper="1.6057" effort="48.7" velocity="4.15699" />
    <dynamics damping="0.2" friction="0" />
  </joint>
  <transmission type="pr2_mechanism_model/SimpleTransmission" name="LARM_JOINT2_trans" >
    <actuator name="LARM_JOINT2_motor" />
    <joint name="LARM_JOINT2" />
    <mechanicalReduction>1</mechanicalReduction>
  </transmission>
  <gazebo reference="LARM_JOINT2">
    <cfmDamping>0.4</cfmDamping>
  </gazebo>
  <joint name="LARM_JOINT3" type="revolute">
    <parent link="LARM_LINK2"/>
    <child  link="LARM_LINK3"/>
    <origin xyz="0 0 -0.25" rpy="0 -0 0 "/>
    <axis   xyz="0 1 0"/>
    <limit lower="-2.3911" upper="0.0349066" effort="108.5" velocity="2.23776" />
    <dynamics damping="0.2" friction="0" />
  </joint>
  <transmission type="pr2_mechanism_model/SimpleTransmission" name="LARM_JOINT3_trans" >
    <actuator name="LARM_JOINT3_motor" />
    <joint name="LARM_JOINT3" />
    <mechanicalReduction>1</mechanicalReduction>
  </transmission>
  <gazebo reference="LARM_JOINT3">
    <cfmDamping>0.4</cfmDamping>
  </gazebo>
  <joint name="LARM_JOINT4" type="revolute">
    <parent link="LARM_LINK3"/>
    <child  link="LARM_LINK4"/>
    <origin xyz="0 0 -0.25" rpy="0 -0 0 "/>
    <axis   xyz="0 0 1"/>
    <limit lower="-1.85005" upper="1.85005" effort="13.9" velocity="4.72794" />
    <dynamics damping="0.2" friction="0" />
  </joint>
  <transmission type="pr2_mechanism_model/SimpleTransmission" name="LARM_JOINT4_trans" >
    <actuator name="LARM_JOINT4_motor" />
    <joint name="LARM_JOINT4" />
    <mechanicalReduction>1</mechanicalReduction>
  </transmission>
  <gazebo reference="LARM_JOINT4">
    <cfmDamping>0.4</cfmDamping>
  </gazebo>
  <joint name="LARM_JOINT5" type="revolute">
    <parent link="LARM_LINK4"/>
    <child  link="LARM_LINK5"/>
    <origin xyz="0 0 0" rpy="0 -0 0 "/>
    <axis   xyz="1 0 0"/>
    <limit lower="-1.6057" upper="1.6057" effort="18.74" velocity="6.63609" />
    <dynamics damping="0.2" friction="0" />
  </joint>
  <transmission type="pr2_mechanism_model/SimpleTransmission" name="LARM_JOINT5_trans" >
    <actuator name="LARM_JOINT5_motor" />
    <joint name="LARM_JOINT5" />
    <mechanicalReduction>1</mechanicalReduction>
  </transmission>
  <gazebo reference="LARM_JOINT5">
    <cfmDamping>0.4</cfmDamping>
  </gazebo>
  <joint name="LARM_JOINT6" type="revolute">
    <parent link="LARM_LINK5"/>
    <child  link="LARM_LINK6"/>
    <origin xyz="0 0 0" rpy="0 -0 0 "/>
    <axis   xyz="0 1 0"/>
    <limit lower="-1.6057" upper="1.6057" effort="16.02" velocity="2.77088" />
    <dynamics damping="0.2" friction="0" />
  </joint>
  <transmission type="pr2_mechanism_model/SimpleTransmission" name="LARM_JOINT6_trans" >
    <actuator name="LARM_JOINT6_motor" />
    <joint name="LARM_JOINT6" />
    <mechanicalReduction>1</mechanicalReduction>
  </transmission>
  <gazebo reference="LARM_JOINT6">
    <cfmDamping>0.4</cfmDamping>
  </gazebo>
  <joint name="LARM_JOINT7" type="revolute">
    <parent link="LARM_LINK6"/>
    <child  link="LARM_LINK7"/>
    <origin xyz="0 -0.0169 -0.114" rpy="0 -0 0 "/>
    <axis   xyz="1 0 0"/>
    <limit lower="-2.35619" upper="0.279253" effort="13.9" velocity="4.72794" />
    <dynamics damping="0.2" friction="0" />
  </joint>
  <transmission type="pr2_mechanism_model/SimpleTransmission" name="LARM_JOINT7_trans" >
    <actuator name="LARM_JOINT7_motor" />
    <joint name="LARM_JOINT7" />
    <mechanicalReduction>1</mechanicalReduction>
  </transmission>
  <gazebo reference="LARM_JOINT7">
    <cfmDamping>0.4</cfmDamping>
  </gazebo>
  <joint name="RARM_JOINT0" type="revolute">
    <parent link="CHEST_LINK1"/>
    <child  link="RARM_LINK0"/>
    <origin xyz="0.008 -0.28 0.181" rpy="0 -0 0 "/>
    <axis   xyz="0 1 0"/>
    <limit lower="-3.14159" upper="1.0472" effort="160.3" velocity="4.17044" />
    <dynamics damping="0.2" friction="0" />
  </joint>
  <transmission type="pr2_mechanism_model/SimpleTransmission" name="RARM_JOINT0_trans" >
    <actuator name="RARM_JOINT0_motor" />
    <joint name="RARM_JOINT0" />
    <mechanicalReduction>1</mechanicalReduction>
  </transmission>
  <gazebo reference="RARM_JOINT0">
    <cfmDamping>0.4</cfmDamping>
  </gazebo>
  <joint name="RARM_JOINT1" type="revolute">
    <parent link="RARM_LINK0"/>
    <child  link="RARM_LINK1"/>
    <origin xyz="0 0 0" rpy="0 -0 0 "/>
    <axis   xyz="1 0 0"/>
    <limit lower="-1.65806" upper="0.174533" effort="100.4" velocity="2.4192" />
    <dynamics damping="0.2" friction="0" />
  </joint>
  <transmission type="pr2_mechanism_model/SimpleTransmission" name="RARM_JOINT1_trans" >
    <actuator name="RARM_JOINT1_motor" />
    <joint name="RARM_JOINT1" />
    <mechanicalReduction>1</mechanicalReduction>
  </transmission>
  <gazebo reference="RARM_JOINT1">
    <cfmDamping>0.4</cfmDamping>
  </gazebo>
  <joint name="RARM_JOINT2" type="revolute">
    <parent link="RARM_LINK1"/>
    <child  link="RARM_LINK2"/>
    <origin xyz="0 0 0" rpy="0 -0 0 "/>
    <axis   xyz="0 0 1"/>
    <limit lower="-1.6057" upper="1.6057" effort="48.7" velocity="4.15699" />
    <dynamics damping="0.2" friction="0" />
  </joint>
  <transmission type="pr2_mechanism_model/SimpleTransmission" name="RARM_JOINT2_trans" >
    <actuator name="RARM_JOINT2_motor" />
    <joint name="RARM_JOINT2" />
    <mechanicalReduction>1</mechanicalReduction>
  </transmission>
  <gazebo reference="RARM_JOINT2">
    <cfmDamping>0.4</cfmDamping>
  </gazebo>
  <joint name="RARM_JOINT3" type="revolute">
    <parent link="RARM_LINK2"/>
    <child  link="RARM_LINK3"/>
    <origin xyz="0 0 -0.25" rpy="0 -0 0 "/>
    <axis   xyz="0 1 0"/>
    <limit lower="-2.3911" upper="0.0349066" effort="108.5" velocity="2.23776" />
    <dynamics damping="0.2" friction="0" />
  </joint>
  <transmission type="pr2_mechanism_model/SimpleTransmission" name="RARM_JOINT3_trans" >
    <actuator name="RARM_JOINT3_motor" />
    <joint name="RARM_JOINT3" />
    <mechanicalReduction>1</mechanicalReduction>
  </transmission>
  <gazebo reference="RARM_JOINT3">
    <cfmDamping>0.4</cfmDamping>
  </gazebo>
  <joint name="RARM_JOINT4" type="revolute">
    <parent link="RARM_LINK3"/>
    <child  link="RARM_LINK4"/>
    <origin xyz="0 0 -0.25" rpy="0 -0 0 "/>
    <axis   xyz="0 0 1"/>
    <limit lower="-1.85005" upper="1.85005" effort="13.9" velocity="4.72794" />
    <dynamics damping="0.2" friction="0" />
  </joint>
  <transmission type="pr2_mechanism_model/SimpleTransmission" name="RARM_JOINT4_trans" >
    <actuator name="RARM_JOINT4_motor" />
    <joint name="RARM_JOINT4" />
    <mechanicalReduction>1</mechanicalReduction>
  </transmission>
  <gazebo reference="RARM_JOINT4">
    <cfmDamping>0.4</cfmDamping>
  </gazebo>
  <joint name="RARM_JOINT5" type="revolute">
    <parent link="RARM_LINK4"/>
    <child  link="RARM_LINK5"/>
    <origin xyz="0 0 0" rpy="0 -0 0 "/>
    <axis   xyz="1 0 0"/>
    <limit lower="-1.6057" upper="1.6057" effort="18.74" velocity="6.63609" />
    <dynamics damping="0.2" friction="0" />
  </joint>
  <transmission type="pr2_mechanism_model/SimpleTransmission" name="RARM_JOINT5_trans" >
    <actuator name="RARM_JOINT5_motor" />
    <joint name="RARM_JOINT5" />
    <mechanicalReduction>1</mechanicalReduction>
  </transmission>
  <gazebo reference="RARM_JOINT5">
    <cfmDamping>0.4</cfmDamping>
  </gazebo>
  <joint name="RARM_JOINT6" type="revolute">
    <parent link="RARM_LINK5"/>
    <child  link="RARM_LINK6"/>
    <origin xyz="0 0 0" rpy="0 -0 0 "/>
    <axis   xyz="0 1 0"/>
    <limit lower="-1.6057" upper="1.6057" effort="16.02" velocity="2.77088" />
    <dynamics damping="0.2" friction="0" />
  </joint>
  <transmission type="pr2_mechanism_model/SimpleTransmission" name="RARM_JOINT6_trans" >
    <actuator name="RARM_JOINT6_motor" />
    <joint name="RARM_JOINT6" />
    <mechanicalReduction>1</mechanicalReduction>
  </transmission>
  <gazebo reference="RARM_JOINT6">
    <cfmDamping>0.4</cfmDamping>
  </gazebo>
  <joint name="RARM_JOINT7" type="revolute">
    <parent link="RARM_LINK6"/>
    <child  link="RARM_LINK7"/>
    <origin xyz="0 0.0169 -0.114" rpy="0 -0 0 "/>
    <axis   xyz="1 0 0"/>
    <limit lower="-0.279253" upper="2.35619" effort="13.9" velocity="4.72794" />
    <dynamics damping="0.2" friction="0" />
  </joint>
  <transmission type="pr2_mechanism_model/SimpleTransmission" name="RARM_JOINT7_trans" >
    <actuator name="RARM_JOINT7_motor" />
    <joint name="RARM_JOINT7" />
    <mechanicalReduction>1</mechanicalReduction>
  </transmission>
  <gazebo reference="RARM_JOINT7">
    <cfmDamping>0.4</cfmDamping>
  </gazebo>
  <joint name="LLEG_JOINT0" type="revolute">
    <parent link="BODY"/>
    <child  link="LLEG_LINK0"/>
    <origin xyz="0 0.06 0" rpy="0 -0 0 "/>
    <axis   xyz="0 0 1"/>
    <limit lower="-0.523599" upper="0.785398" effort="86.2" velocity="3.54108" />
    <dynamics damping="0.2" friction="0" />
  </joint>
  <transmission type="pr2_mechanism_model/SimpleTransmission" name="LLEG_JOINT0_trans" >
    <actuator name="LLEG_JOINT0_motor" />
    <joint name="LLEG_JOINT0" />
    <mechanicalReduction>1</mechanicalReduction>
  </transmission>
  <gazebo reference="LLEG_JOINT0">
    <cfmDamping>0.4</cfmDamping>
  </gazebo>
  <joint name="LLEG_JOINT1" type="revolute">
    <parent link="LLEG_LINK0"/>
    <child  link="LLEG_LINK1"/>
    <origin xyz="0 0 0" rpy="0 -0 0 "/>
    <axis   xyz="1 0 0"/>
    <limit lower="-0.349066" upper="0.610865" effort="175.4" velocity="3.80952" />
    <dynamics damping="0.2" friction="0" />
  </joint>
  <transmission type="pr2_mechanism_model/SimpleTransmission" name="LLEG_JOINT1_trans" >
    <actuator name="LLEG_JOINT1_motor" />
    <joint name="LLEG_JOINT1" />
    <mechanicalReduction>1</mechanicalReduction>
  </transmission>
  <gazebo reference="LLEG_JOINT1">
    <cfmDamping>0.4</cfmDamping>
  </gazebo>
  <joint name="LLEG_JOINT2" type="revolute">
    <parent link="LLEG_LINK1"/>
    <child  link="LLEG_LINK2"/>
    <origin xyz="0 0 0" rpy="0 -0 0 "/>
    <axis   xyz="0 1 0"/>
    <limit lower="-2.18166" upper="0.733038" effort="151.4" velocity="4.42233" />
    <dynamics damping="0.2" friction="0" />
  </joint>
  <transmission type="pr2_mechanism_model/SimpleTransmission" name="LLEG_JOINT2_trans" >
    <actuator name="LLEG_JOINT2_motor" />
    <joint name="LLEG_JOINT2" />
    <mechanicalReduction>1</mechanicalReduction>
  </transmission>
  <gazebo reference="LLEG_JOINT2">
    <cfmDamping>0.4</cfmDamping>
  </gazebo>
  <joint name="LLEG_JOINT3" type="revolute">
    <parent link="LLEG_LINK2"/>
    <child  link="LLEG_LINK3"/>
    <origin xyz="0 0 -0.3" rpy="0 -0 0 "/>
    <axis   xyz="0 1 0"/>
    <limit lower="-0.0349066" upper="2.61799" effort="168.3" velocity="3.9801" />
    <dynamics damping="0.2" friction="0" />
  </joint>
  <transmission type="pr2_mechanism_model/SimpleTransmission" name="LLEG_JOINT3_trans" >
    <actuator name="LLEG_JOINT3_motor" />
    <joint name="LLEG_JOINT3" />
    <mechanicalReduction>1</mechanicalReduction>
  </transmission>
  <gazebo reference="LLEG_JOINT3">
    <cfmDamping>0.4</cfmDamping>
  </gazebo>
  <joint name="LLEG_JOINT4" type="revolute">
    <parent link="LLEG_LINK3"/>
    <child  link="LLEG_LINK4"/>
    <origin xyz="0 0.035 -0.3" rpy="0 -0 0 "/>
    <axis   xyz="0 1 0"/>
    <limit lower="-1.22173" upper="0.733038" effort="131.6" velocity="5.07937" />
    <dynamics damping="0.2" friction="0" />
  </joint>
  <transmission type="pr2_mechanism_model/SimpleTransmission" name="LLEG_JOINT4_trans" >
    <actuator name="LLEG_JOINT4_motor" />
    <joint name="LLEG_JOINT4" />
    <mechanicalReduction>1</mechanicalReduction>
  </transmission>
  <gazebo reference="LLEG_JOINT4">
    <cfmDamping>0.4</cfmDamping>
  </gazebo>
  <joint name="LLEG_JOINT5" type="revolute">
    <parent link="LLEG_LINK4"/>
    <child  link="LLEG_LINK5"/>
    <origin xyz="0 0 0" rpy="0 -0 0 "/>
    <axis   xyz="1 0 0"/>
    <limit lower="-0.785398" upper="0.506145" effort="73.1" velocity="9.14286" />
    <dynamics damping="0.2" friction="0" />
  </joint>
  <transmission type="pr2_mechanism_model/SimpleTransmission" name="LLEG_JOINT5_trans" >
    <actuator name="LLEG_JOINT5_motor" />
    <joint name="LLEG_JOINT5" />
    <mechanicalReduction>1</mechanicalReduction>
  </transmission>
  <gazebo reference="LLEG_JOINT5">
    <cfmDamping>0.4</cfmDamping>
  </gazebo>
  <joint name="LLEG_JOINT6" type="revolute">
    <parent link="LLEG_LINK5"/>
    <child  link="LLEG_LINK6"/>
    <origin xyz="0.115 0 -0.084" rpy="0 -0 0 "/>
    <axis   xyz="0 1 0"/>
    <limit lower="-1.0472" upper="0.279253" effort="35.88" velocity="8.85929" />
    <dynamics damping="0.2" friction="0" />
  </joint>
  <transmission type="pr2_mechanism_model/SimpleTransmission" name="LLEG_JOINT6_trans" >
    <actuator name="LLEG_JOINT6_motor" />
    <joint name="LLEG_JOINT6" />
    <mechanicalReduction>1</mechanicalReduction>
  </transmission>
  <gazebo reference="LLEG_JOINT6">
    <cfmDamping>0.4</cfmDamping>
  </gazebo>
  <joint name="RLEG_JOINT0" type="revolute">
    <parent link="BODY"/>
    <child  link="RLEG_LINK0"/>
    <origin xyz="0 -0.06 0" rpy="0 -0 0 "/>
    <axis   xyz="0 0 1"/>
    <limit lower="-0.785398" upper="0.523599" effort="86.2" velocity="3.54108" />
    <dynamics damping="0.2" friction="0" />
  </joint>
  <transmission type="pr2_mechanism_model/SimpleTransmission" name="RLEG_JOINT0_trans" >
    <actuator name="RLEG_JOINT0_motor" />
    <joint name="RLEG_JOINT0" />
    <mechanicalReduction>1</mechanicalReduction>
  </transmission>
  <gazebo reference="RLEG_JOINT0">
    <cfmDamping>0.4</cfmDamping>
  </gazebo>
  <joint name="RLEG_JOINT1" type="revolute">
    <parent link="RLEG_LINK0"/>
    <child  link="RLEG_LINK1"/>
    <origin xyz="0 0 0" rpy="0 -0 0 "/>
    <axis   xyz="1 0 0"/>
    <limit lower="-0.610865" upper="0.349066" effort="175.4" velocity="3.80952" />
    <dynamics damping="0.2" friction="0" />
  </joint>
  <transmission type="pr2_mechanism_model/SimpleTransmission" name="RLEG_JOINT1_trans" >
    <actuator name="RLEG_JOINT1_motor" />
    <joint name="RLEG_JOINT1" />
    <mechanicalReduction>1</mechanicalReduction>
  </transmission>
  <gazebo reference="RLEG_JOINT1">
    <cfmDamping>0.4</cfmDamping>
  </gazebo>
  <joint name="RLEG_JOINT2" type="revolute">
    <parent link="RLEG_LINK1"/>
    <child  link="RLEG_LINK2"/>
    <origin xyz="0 0 0" rpy="0 -0 0 "/>
    <axis   xyz="0 1 0"/>
    <limit lower="-2.18166" upper="0.733038" effort="151.4" velocity="4.42233" />
    <dynamics damping="0.2" friction="0" />
  </joint>
  <transmission type="pr2_mechanism_model/SimpleTransmission" name="RLEG_JOINT2_trans" >
    <actuator name="RLEG_JOINT2_motor" />
    <joint name="RLEG_JOINT2" />
    <mechanicalReduction>1</mechanicalReduction>
  </transmission>
  <gazebo reference="RLEG_JOINT2">
    <cfmDamping>0.4</cfmDamping>
  </gazebo>
  <joint name="RLEG_JOINT3" type="revolute">
    <parent link="RLEG_LINK2"/>
    <child  link="RLEG_LINK3"/>
    <origin xyz="0 0 -0.3" rpy="0 -0 0 "/>
    <axis   xyz="0 1 0"/>
    <limit lower="-0.0349066" upper="2.61799" effort="168.3" velocity="3.9801" />
    <dynamics damping="0.2" friction="0" />
  </joint>
  <transmission type="pr2_mechanism_model/SimpleTransmission" name="RLEG_JOINT3_trans" >
    <actuator name="RLEG_JOINT3_motor" />
    <joint name="RLEG_JOINT3" />
    <mechanicalReduction>1</mechanicalReduction>
  </transmission>
  <gazebo reference="RLEG_JOINT3">
    <cfmDamping>0.4</cfmDamping>
  </gazebo>
  <joint name="RLEG_JOINT4" type="revolute">
    <parent link="RLEG_LINK3"/>
    <child  link="RLEG_LINK4"/>
    <origin xyz="0 -0.035 -0.3" rpy="0 -0 0 "/>
    <axis   xyz="0 1 0"/>
    <limit lower="-1.22173" upper="0.733038" effort="131.6" velocity="5.07937" />
    <dynamics damping="0.2" friction="0" />
  </joint>
  <transmission type="pr2_mechanism_model/SimpleTransmission" name="RLEG_JOINT4_trans" >
    <actuator name="RLEG_JOINT4_motor" />
    <joint name="RLEG_JOINT4" />
    <mechanicalReduction>1</mechanicalReduction>
  </transmission>
  <gazebo reference="RLEG_JOINT4">
    <cfmDamping>0.4</cfmDamping>
  </gazebo>
  <joint name="RLEG_JOINT5" type="revolute">
    <parent link="RLEG_LINK4"/>
    <child  link="RLEG_LINK5"/>
    <origin xyz="0 0 0" rpy="0 -0 0 "/>
    <axis   xyz="1 0 0"/>
    <limit lower="-0.506145" upper="0.785398" effort="73.1" velocity="9.14286" />
    <dynamics damping="0.2" friction="0" />
  </joint>
  <transmission type="pr2_mechanism_model/SimpleTransmission" name="RLEG_JOINT5_trans" >
    <actuator name="RLEG_JOINT5_motor" />
    <joint name="RLEG_JOINT5" />
    <mechanicalReduction>1</mechanicalReduction>
  </transmission>
  <gazebo reference="RLEG_JOINT5">
    <cfmDamping>0.4</cfmDamping>
  </gazebo>
  <joint name="RLEG_JOINT6" type="revolute">
    <parent link="RLEG_LINK5"/>
    <child  link="RLEG_LINK6"/>
    <origin xyz="0.115 0 -0.084" rpy="0 -0 0 "/>
    <axis   xyz="0 1 0"/>
    <limit lower="-1.0472" upper="0.279253" effort="35.88" velocity="8.85929" />
    <dynamics damping="0.2" friction="0" />
  </joint>
  <transmission type="pr2_mechanism_model/SimpleTransmission" name="RLEG_JOINT6_trans" >
    <actuator name="RLEG_JOINT6_motor" />
    <joint name="RLEG_JOINT6" />
    <mechanicalReduction>1</mechanicalReduction>
  </transmission>
  <gazebo reference="RLEG_JOINT6">
    <cfmDamping>0.4</cfmDamping>
  </gazebo>
</robot>
